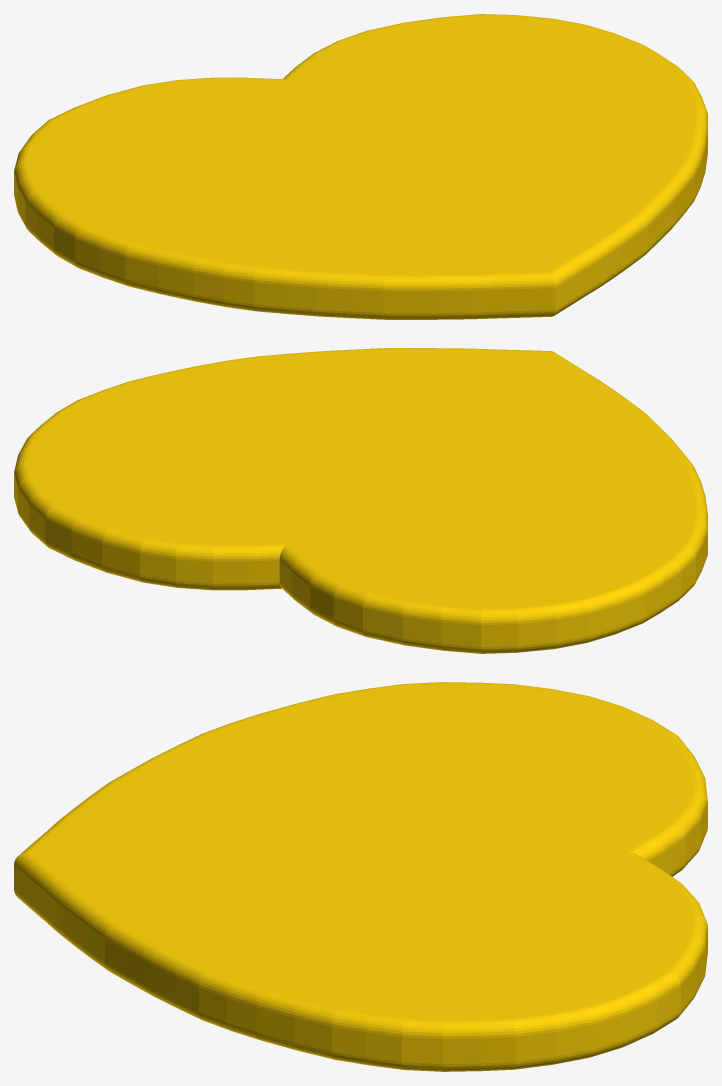
Rendered from Heart.glb.
3 renders of one model, top to bottom at view 1: azimuth 30°, elevation 25°; view 2: azimuth 150°, elevation 25°; view 3: azimuth 270°, elevation 25°, orthographic. The views are drawn at different scales.
Visible parts, largest first — view 1: Plane; view 2: Plane; view 3: Plane.
Boxes of the visible parts, x1,y1,x2,y2 form: Plane: (14, 14, 707, 319); Plane: (14, 348, 707, 653); Plane: (14, 682, 707, 1071).
Size of the model in its own units: 4.53 by 0.2986 by 3.8.
